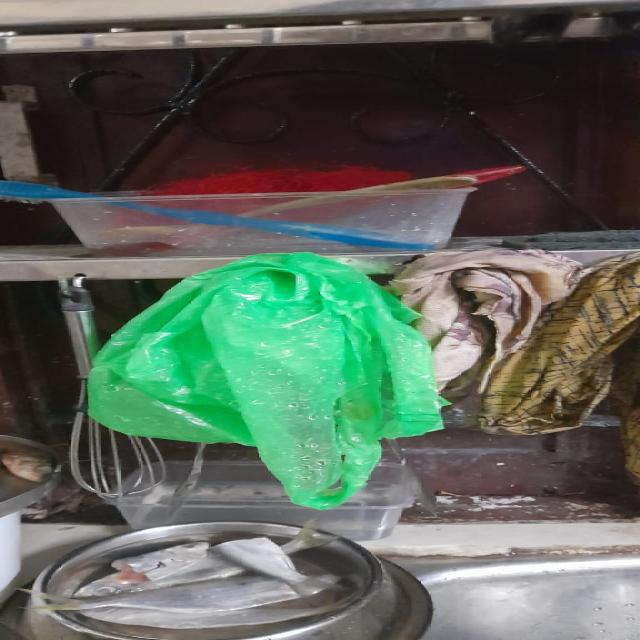Plastic - Recyclable: (74, 250, 453, 512)
